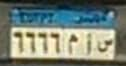6: (37, 30, 49, 55), (50, 31, 61, 55), (25, 31, 36, 54), (13, 31, 24, 54)
alif: (85, 33, 93, 55)
meem: (67, 33, 78, 56)
seen: (96, 38, 113, 54)
